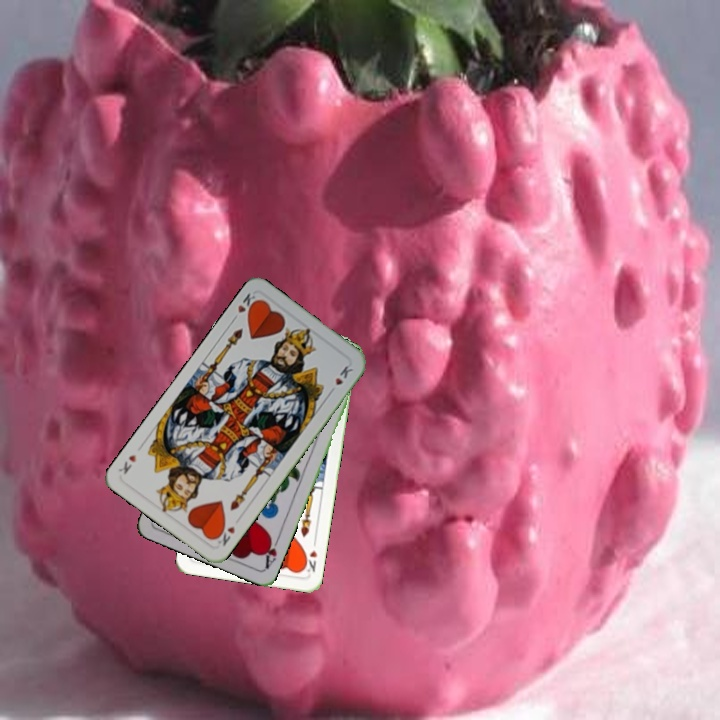HA: (259, 532, 283, 571)
HK: (228, 289, 262, 324), (299, 536, 320, 575), (211, 521, 237, 549)
